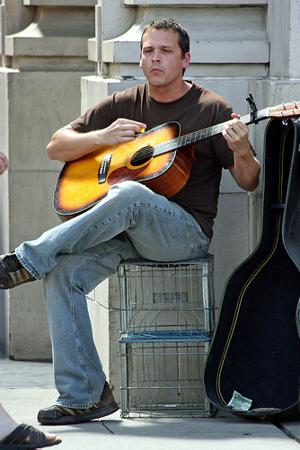person: (2, 18, 263, 427)
